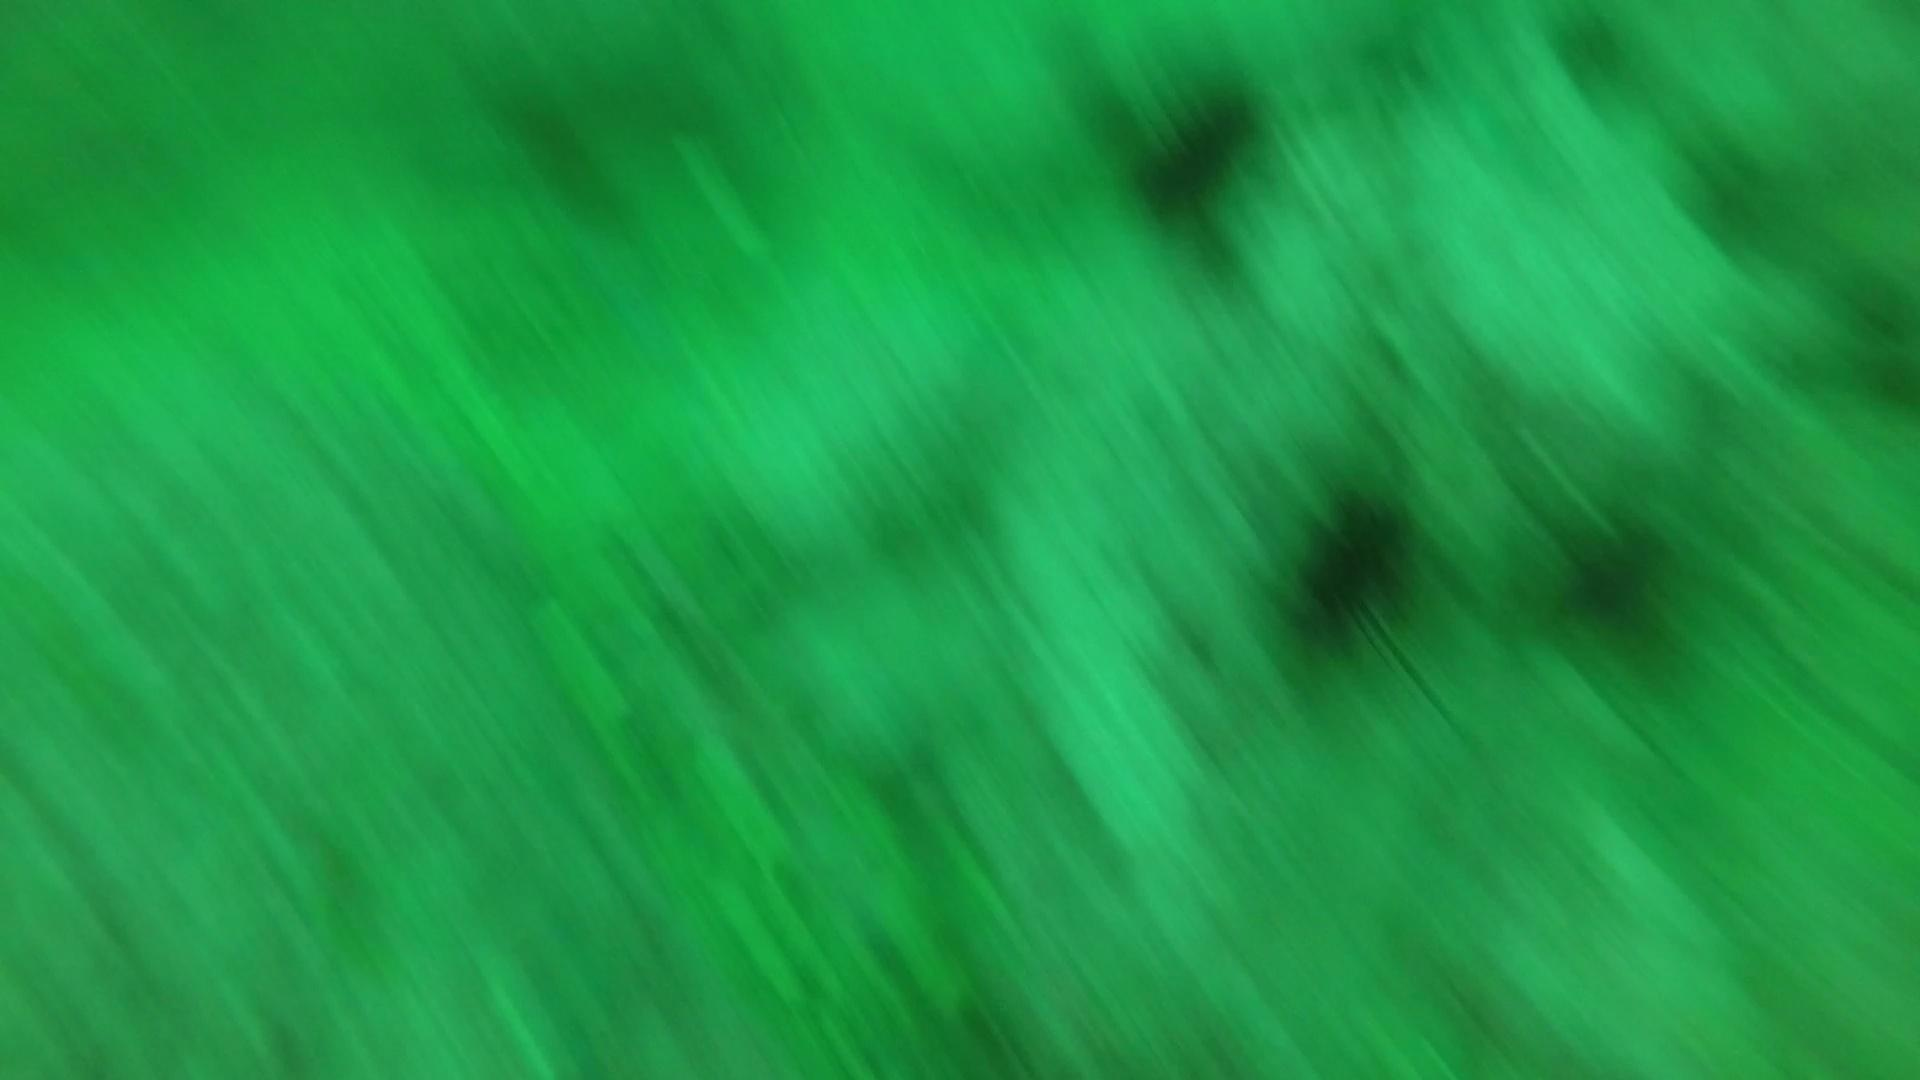echinus: (1271, 481, 1429, 659), (1120, 73, 1271, 229), (1545, 508, 1691, 649), (1538, 3, 1646, 98)
